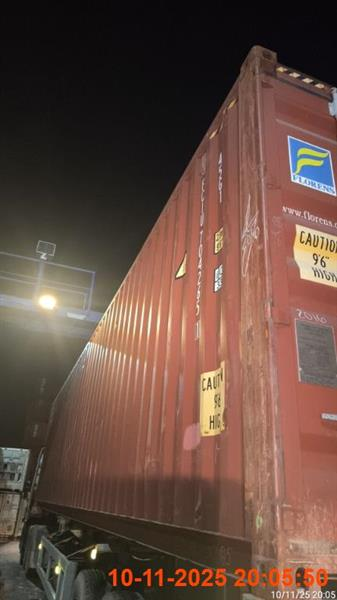broken: (17, 45, 335, 598)
